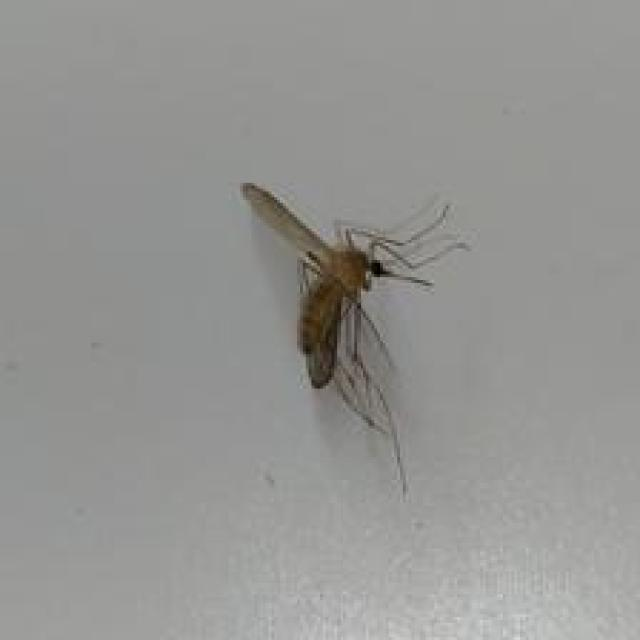Culex: (240, 180, 471, 497)
